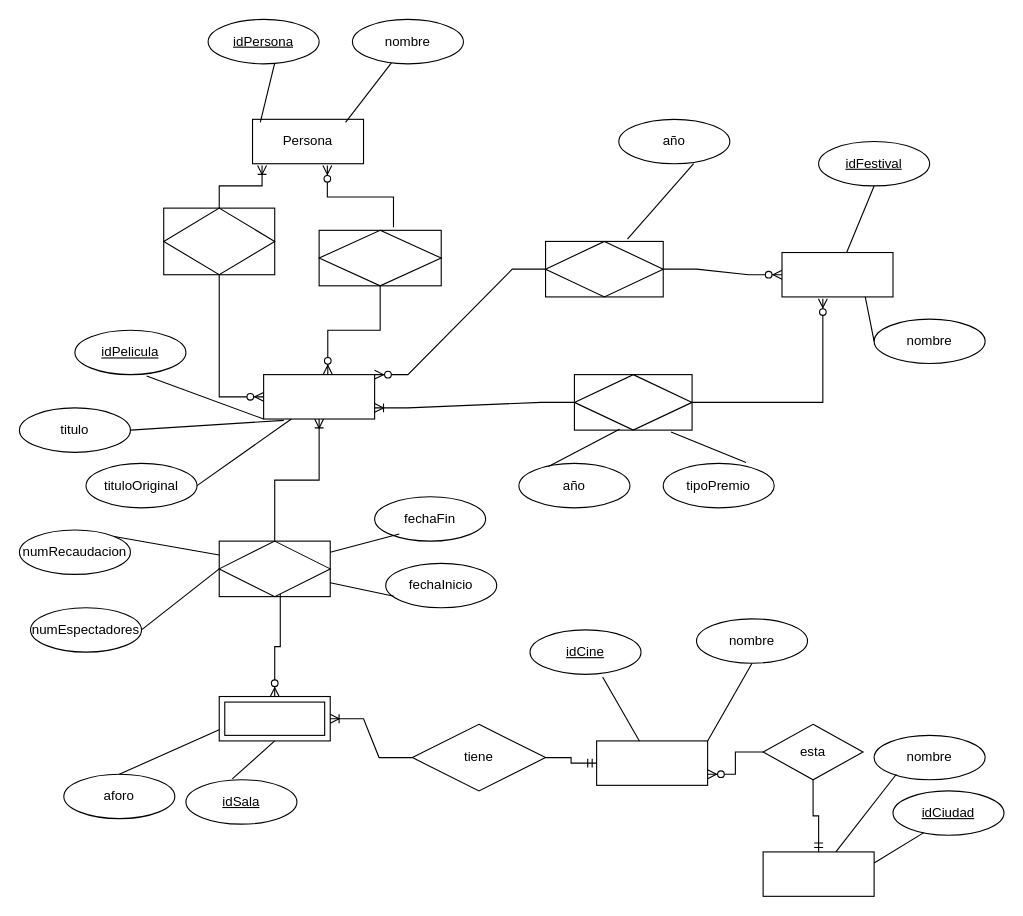
This 1023x916 diagram has some shape labels left out. The box of each missing label's shape, as (x1, y1, x2, y2) in pixels:
actua: (318, 229, 441, 286)
Cine: (596, 740, 708, 785)
Ciudad: (762, 851, 874, 896)
dirige: (163, 207, 275, 275)
Festival: (781, 251, 893, 297)
participa: (544, 240, 663, 297)
Pelicula: (263, 374, 375, 419)
premio: (573, 374, 692, 430)
proyecta: (218, 540, 330, 597)
Sala: (218, 695, 330, 741)
